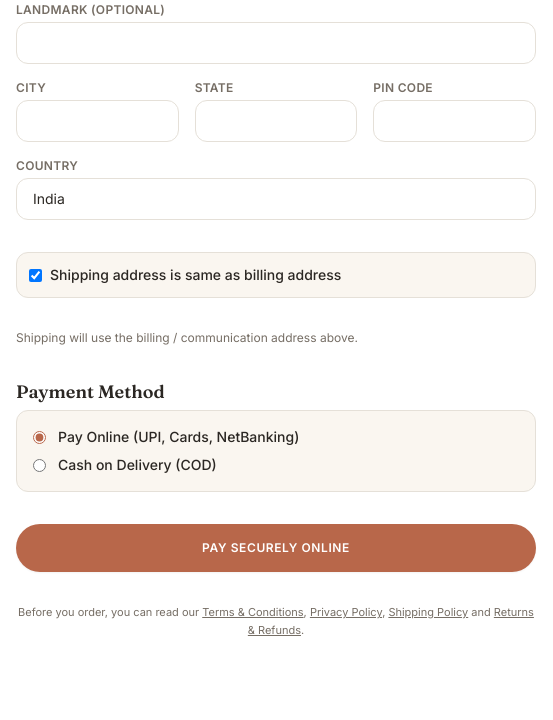
Test: Checkout delivery estimate › shows a gentle note when COD is selected and unavailable
(page scrolled)
Click the radio button labelled "Cash on Delivery (COD)" at (40, 465), box 33,458 -> 46,472
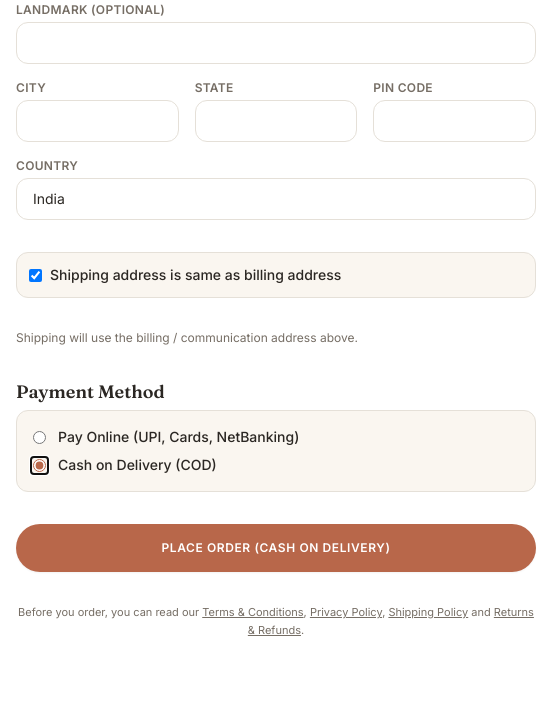
Type "560001" into the field labelled "PIN Code" at (455, 121), box 373,100 -> 536,142
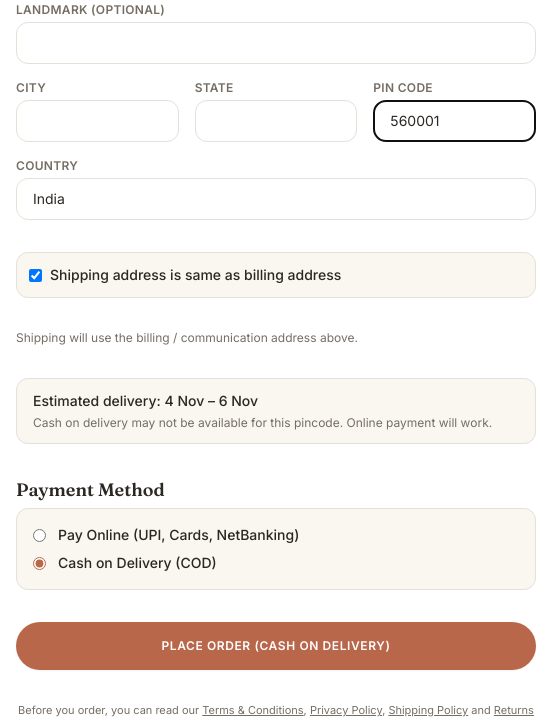
Expected: the text "Cash on delivery may not be available" is shown, 33,415 -> 492,430
